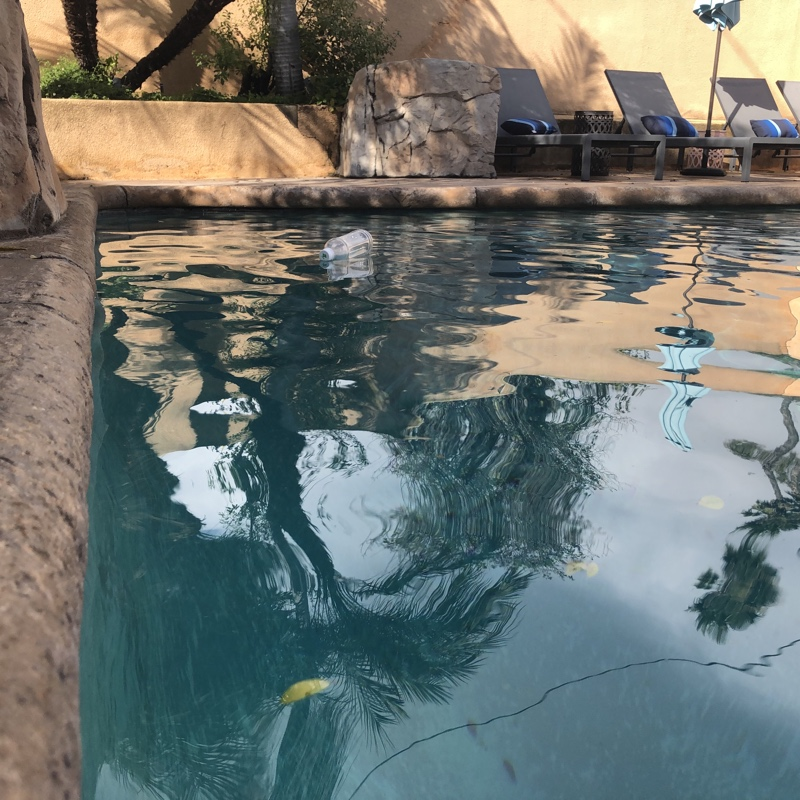Plastic Bottle: (319, 229, 374, 262)
